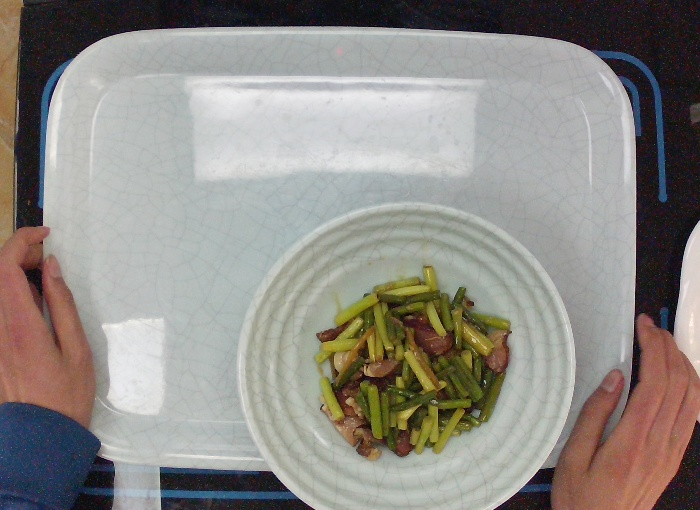JYsf-Da_Tang_Wan: (231, 193, 579, 510)
